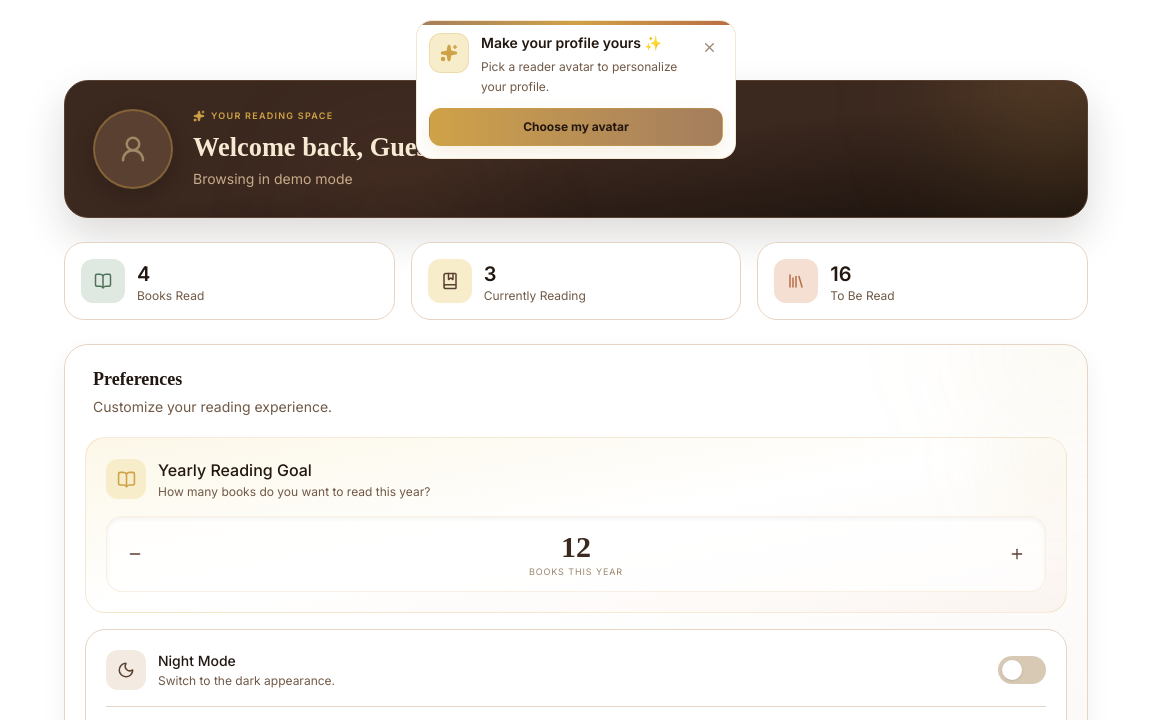
Test: settings page — demo mode › shows the avatar reminder until it is dismissed
The image size is (1152, 720).
Expected: the heading "Make your profile yours ✨" is shown, [481,34,662,51]
Step 1. Click the button named "Dismiss notification" → point(709, 47), box [695,33,723,61]
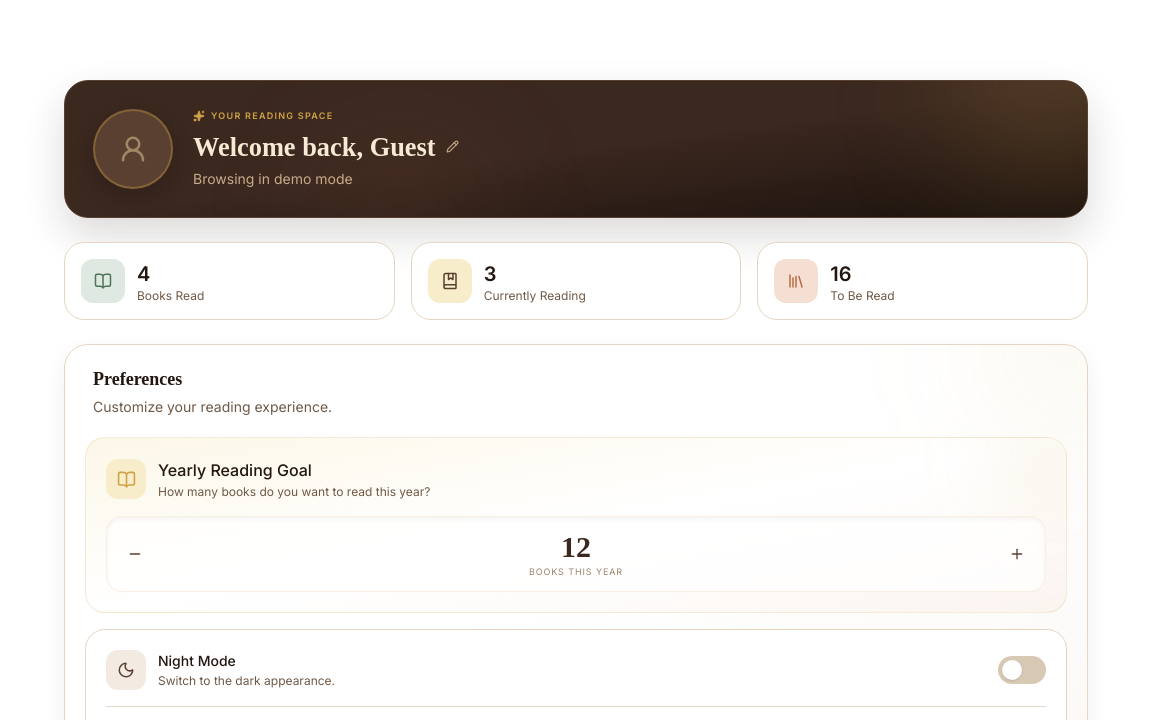
Expected: the heading "Make your profile yours" is gone
